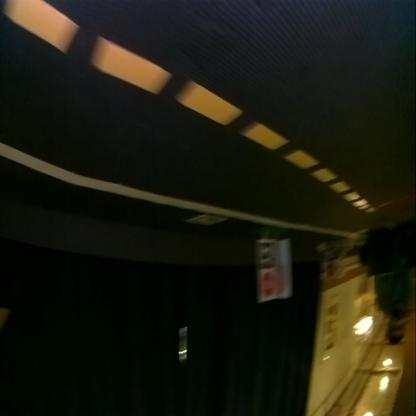QR code: (256, 244, 275, 268), (187, 217, 224, 226)
Stop sign: (258, 271, 276, 301)
